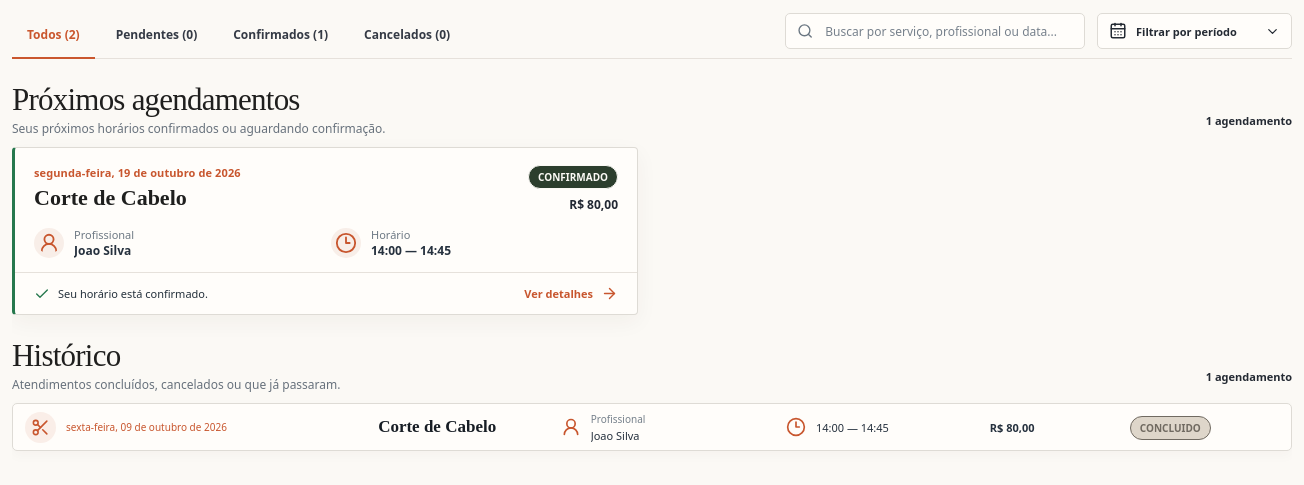
Test: ClientAppointmentsPage › limits results to the selected period
The width and height of the screenshot is (1304, 485).
Click the button "Filtrar por período": (1194, 31) 1097,13 -> 1292,49
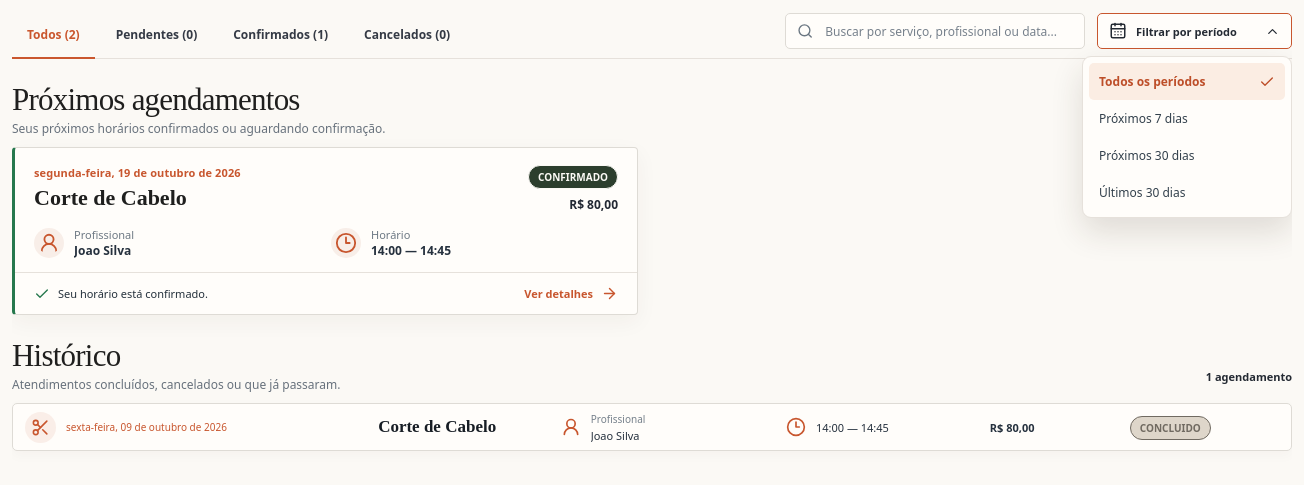
Result: the element named "Opções de período" is shown at 1082,56 -> 1292,218
Click the button "Próximos 7 dias": (1187, 118) 1089,100 -> 1285,137
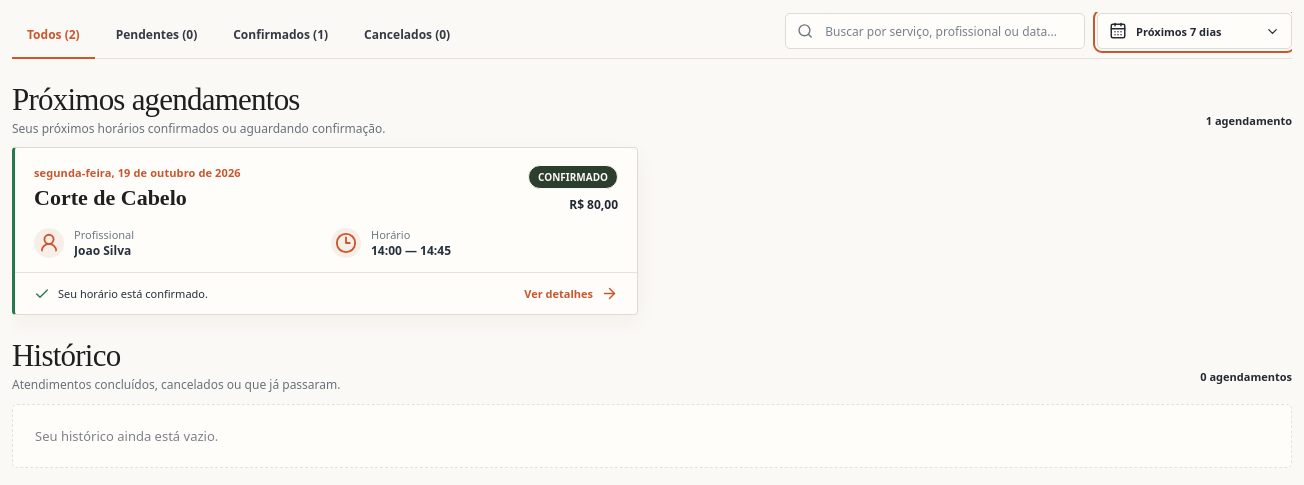
Expected: the text "1 agendamento" is shown, 1206,113 -> 1292,137
Result: the text "Seu histórico ainda está vazio." is shown at 12,404 -> 1292,468
Click the button with aria-label "Filtrar por período": (1194, 31) 1097,13 -> 1292,49
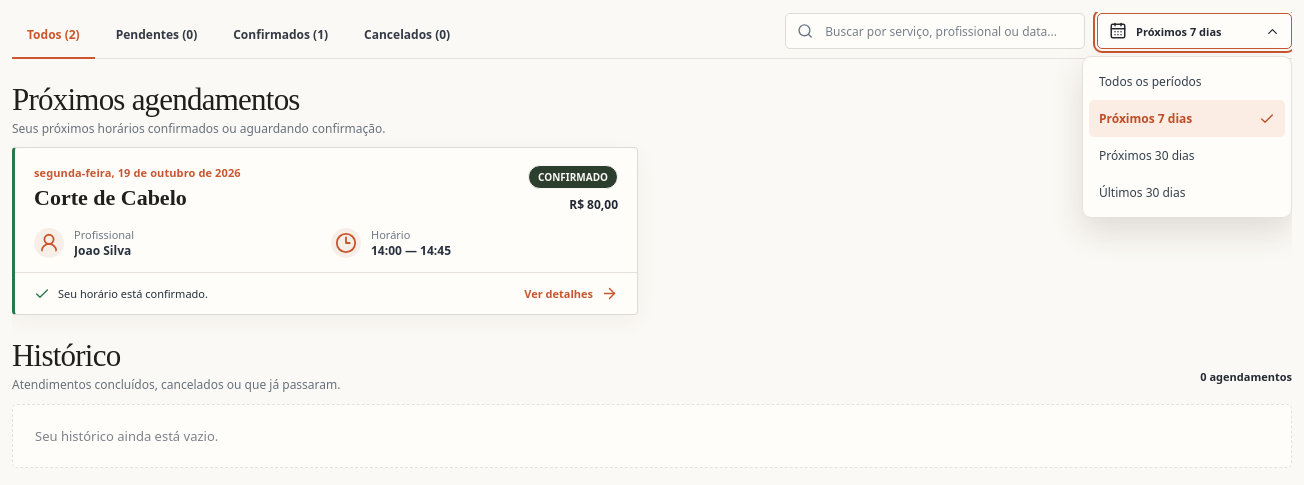
Click the button "Últimos 30 dias": (1187, 192) 1089,174 -> 1285,211
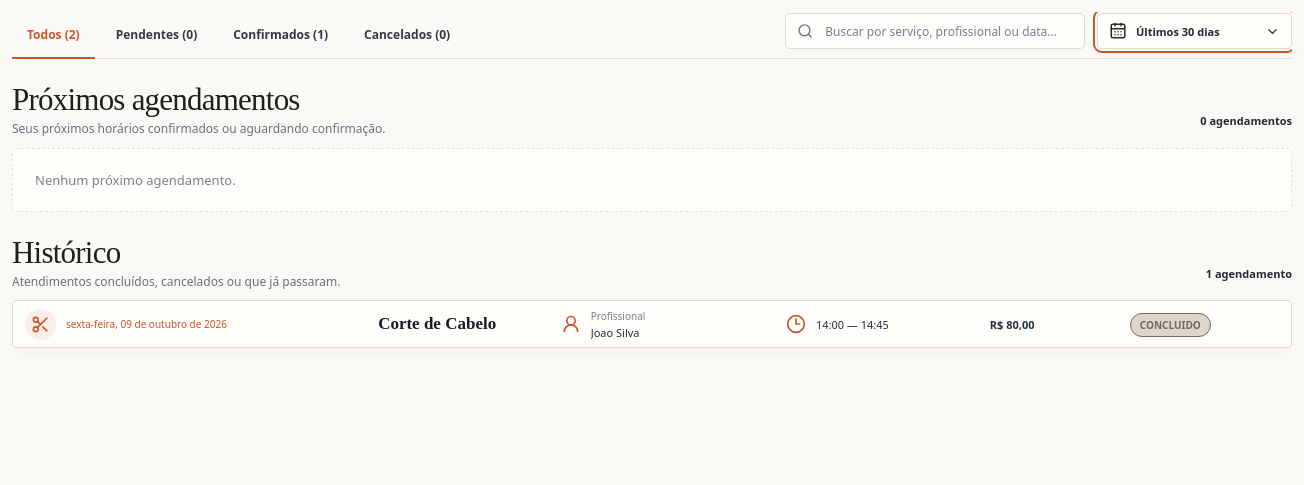
Result: the text "Nenhum próximo agendamento." is shown at 12,148 -> 1292,212
